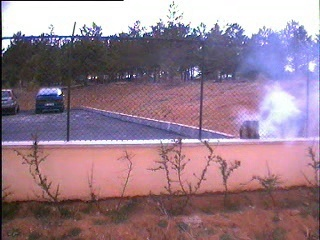smoke: (237, 27, 320, 139)
